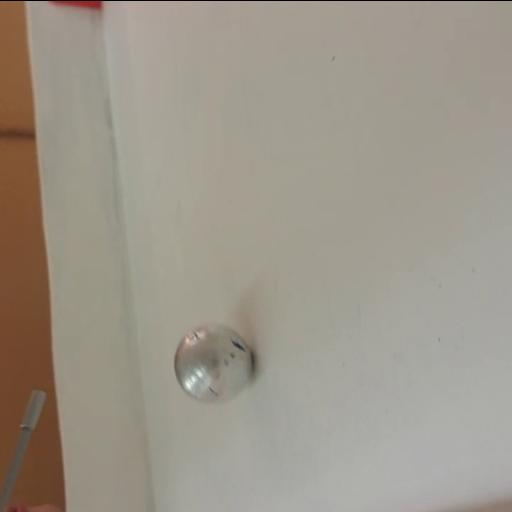alive: (174, 322, 256, 404)
